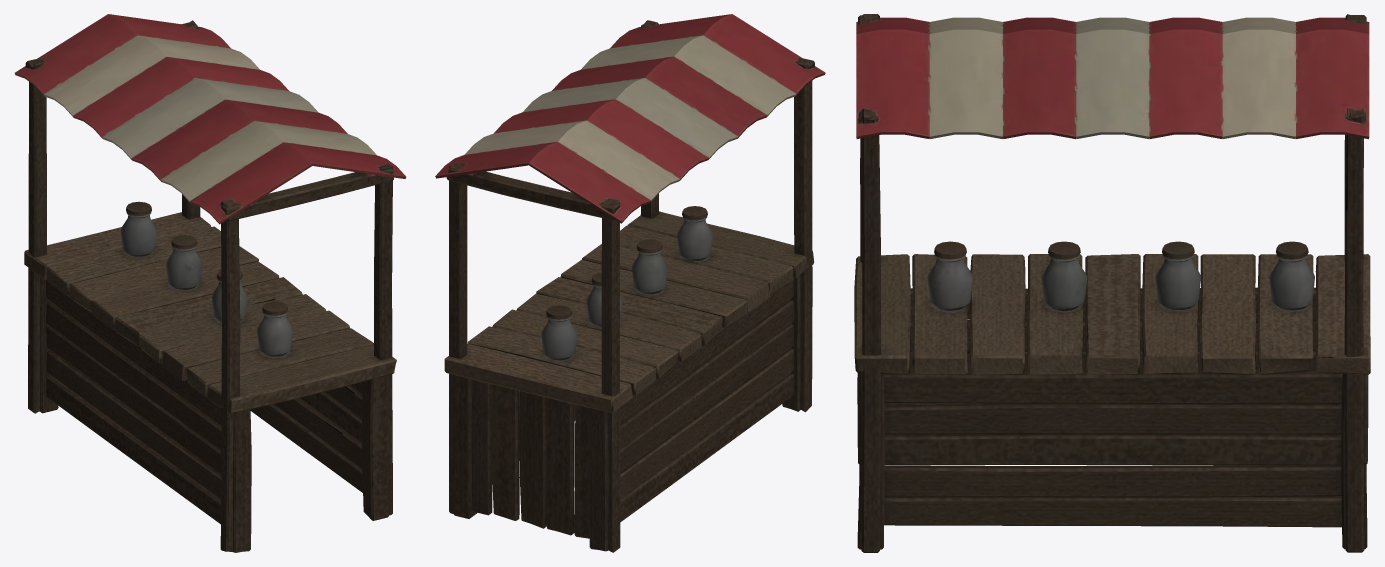
Rendered from market_stall.glb.
3 renders of one model, left to right at view 1: azimuth 30°, elevation 25°; view 2: azimuth 150°, elevation 25°; view 3: azimuth 270°, elevation 25°, orthographic. The views are drawn at different scales.
Visible parts, largest first — view 1: market_stall; view 2: market_stall; view 3: market_stall.
Part boxes in pixels (<box>): market_stall: <box>14,14,406,552</box>; market_stall: <box>435,14,825,552</box>; market_stall: <box>854,14,1370,552</box>.
Bounding box in the file's own units: 0.9541 × 1.83 × 1.81.
1 material, 1 textured.
